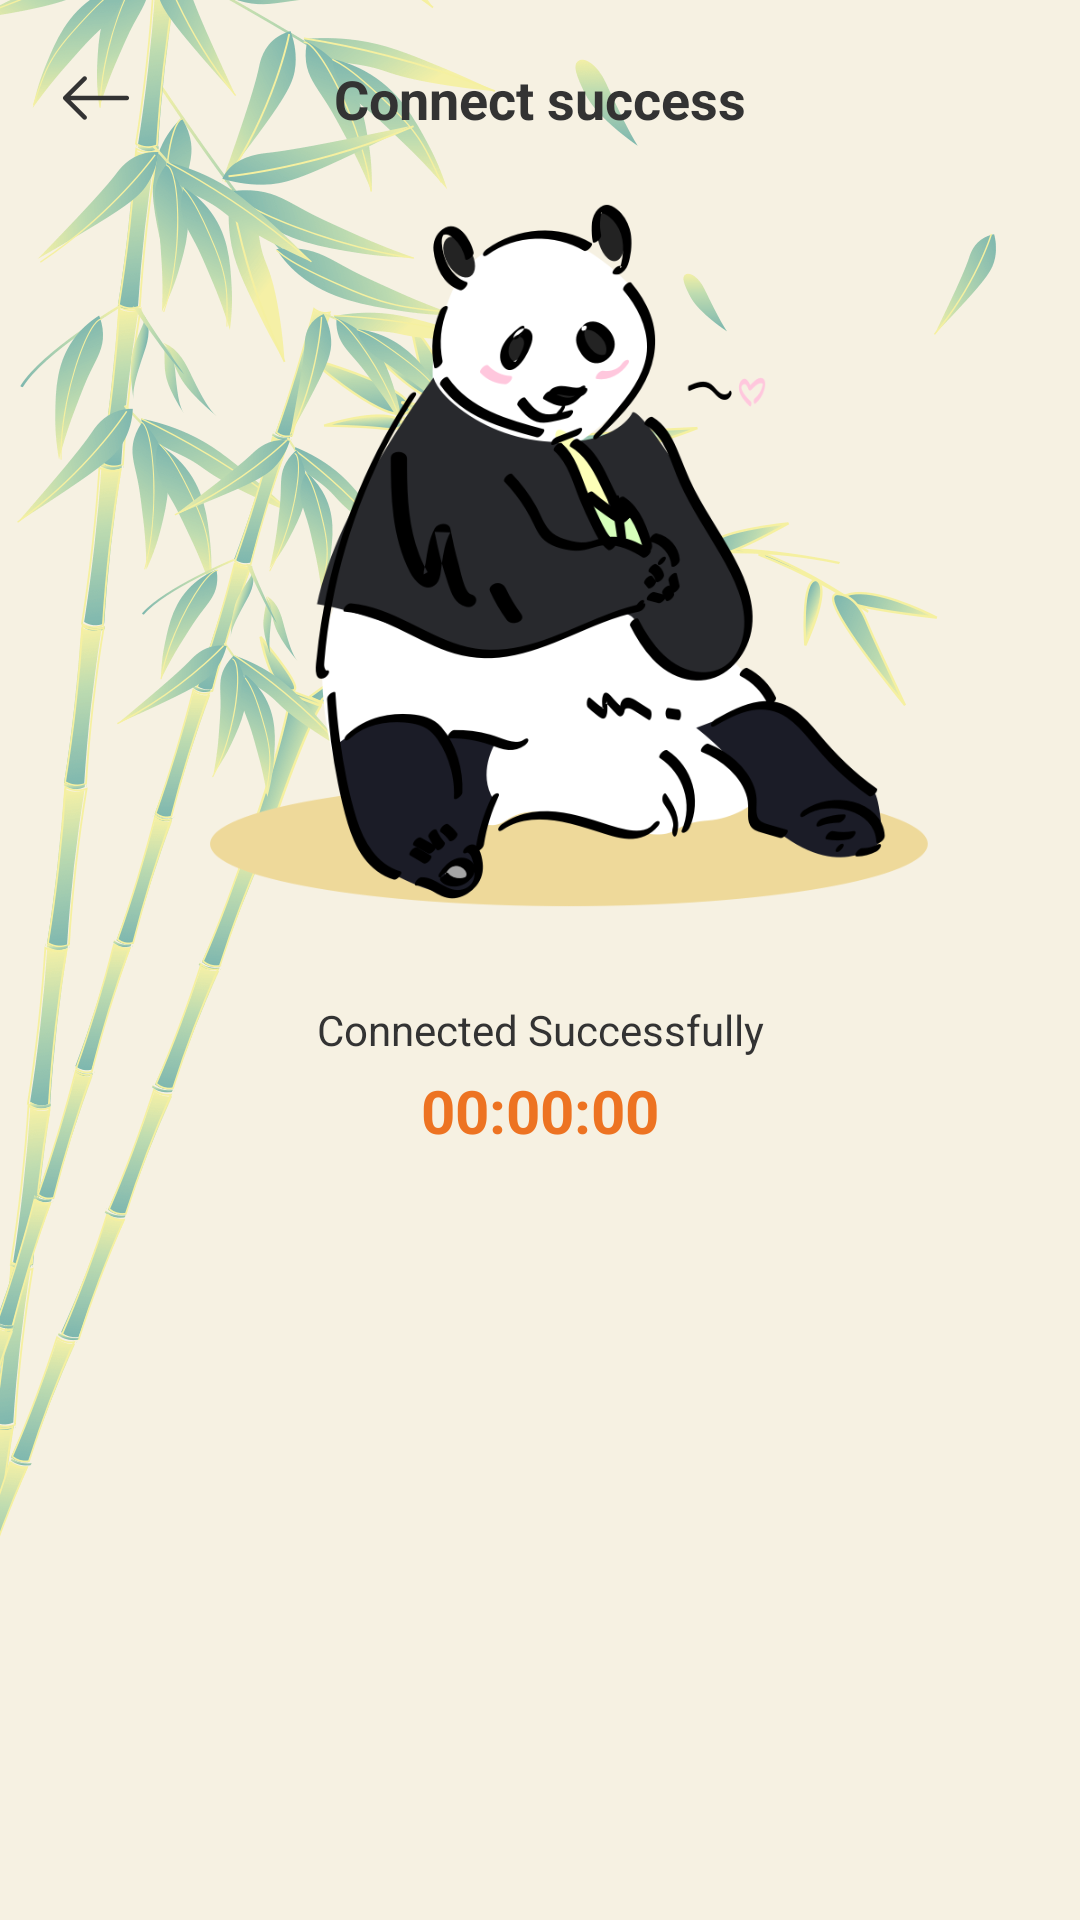

Icon bounding boxes for this 1080px x 1920px phone screenshot, format [left=x1, top=y1, right=x2, bottom=y2]:
back: [left=60, top=62, right=129, bottom=120]
